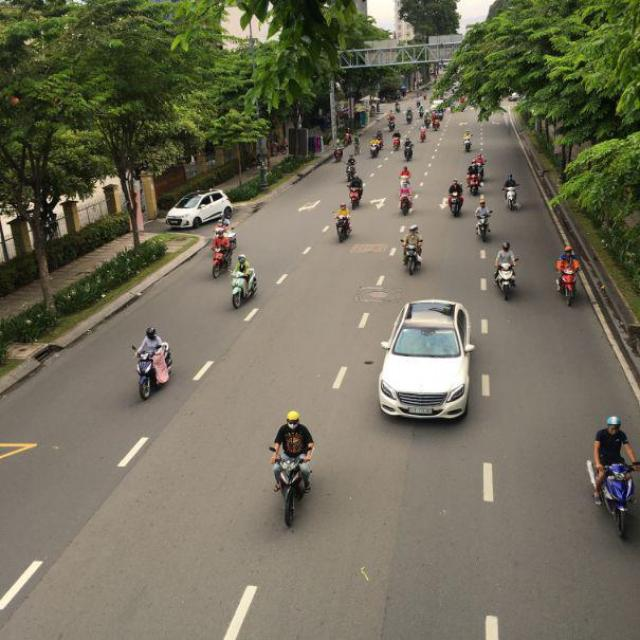car: (376, 299, 479, 420), (167, 190, 233, 229)
motorcycle: (272, 454, 311, 528), (600, 463, 635, 536), (136, 344, 172, 401), (401, 227, 424, 277), (211, 240, 235, 280), (494, 264, 519, 300), (558, 268, 579, 304), (405, 244, 423, 276), (475, 215, 491, 242), (337, 215, 352, 243), (448, 192, 463, 216), (505, 188, 520, 211), (400, 191, 415, 214)
